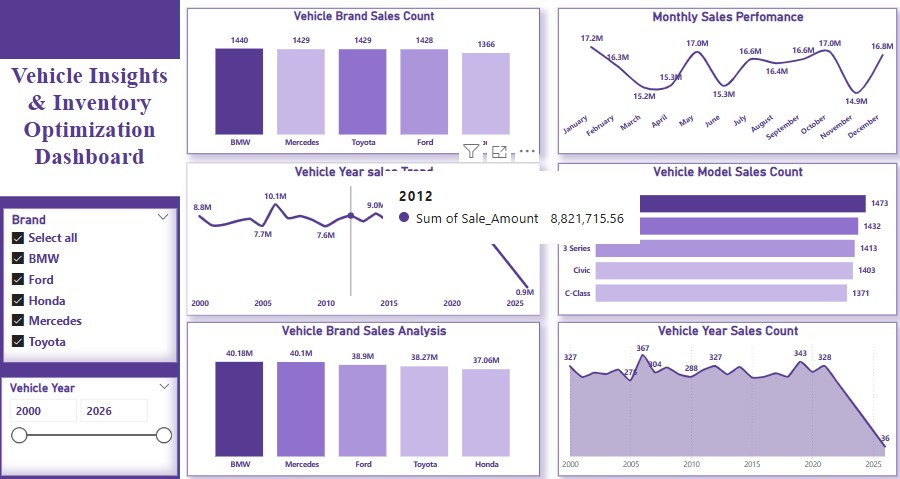

Layout of this report page (visuals, bound fields, positions):
{"tool":"powerbi","page":{"name":"Vehicle Insights & Inventory Optimization ","canvas":[1445,785],"ordinal":2},"visuals":[{"type":"columnChart","title":"Vehicle Brand Sales Count","fields":{"Category":["Sheet 1.Vehicle_Make"],"Y":["CountNonNull(Sheet 1.Vehicle_Model)"]},"box":[300,19.1,563.2,232.9],"z":0},{"type":"clusteredBarChart","title":"Vehicle Model Sales Count","fields":{"Category":["Sheet 1.Vehicle_Model"],"Y":["CountNonNull(Sheet 1.Vehicle_Make)"]},"box":[891.9,266.5,540.9,242.5],"z":1000},{"type":"lineChart","title":"Vehicle Year Sales Count","fields":{"Category":["Sheet 1.Vehicle_Year"],"Y":["CountNonNull(Sheet 1.Vehicle_Model)"]},"box":[891.9,520.1,540.9,245.7],"z":2000},{"type":"lineChart","title":"Vehicle Year sales Trend","fields":{"Category":["Sheet 1.Vehicle_Year"],"Y":["Sum(Sheet 1.Sale_Amount)"]},"box":[300,266.5,563.2,242.5],"z":3000},{"type":"lineChart","title":"Monthly Sales Perfomance","fields":{"Category":["Sheet 1.Sale_Date.Variation.Date Hierarchy.Month"],"Y":["Sum(Sheet 1.Sale_Amount)"]},"box":[891.9,19.1,540.9,232.9],"z":4000},{"type":"columnChart","title":"Vehicle Brand Sales Analysis","fields":{"Y":["Sum(Sheet 1.Sale_Amount)"],"Category":["Sheet 1.Vehicle_Make"]},"box":[300,520.1,563.2,245.7],"z":5000},{"type":"shape","box":[0,0,288.8,785],"z":6000},{"type":"textbox","box":[0,100.5,288.8,218.6],"z":7000},{"type":"slicer","fields":{"Values":["Sheet 1.Vehicle_Make"]},"box":[6.4,338.3,277.6,247.3],"z":8000},{"type":"slicer","fields":{"Values":["Sheet 1.Vehicle_Year"]},"box":[3.2,607.9,282.4,158],"z":9000}]}

Visuals, with their boxes in screenshot pixels (x1, y1, x2, y2), scaled from the page's 1445x785 canvas onto the 900x479 screenshot:
"Vehicle Brand Sales Count" columnChart: rect(187, 12, 538, 154)
"Vehicle Model Sales Count" clusteredBarChart: rect(556, 163, 892, 311)
"Vehicle Year Sales Count" lineChart: rect(556, 317, 892, 467)
"Vehicle Year sales Trend" lineChart: rect(187, 163, 538, 311)
"Monthly Sales Perfomance" lineChart: rect(556, 12, 892, 154)
"Vehicle Brand Sales Analysis" columnChart: rect(187, 317, 538, 467)
shape: rect(0, 0, 180, 478)
textbox: rect(0, 61, 180, 195)
slicer - Sheet 1.Vehicle_Make: rect(4, 206, 177, 357)
slicer - Sheet 1.Vehicle_Year: rect(2, 371, 178, 467)
